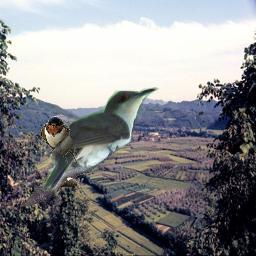Crow: (20, 159, 98, 207)
Cuckoo: (42, 87, 159, 192)
Swallow: (41, 116, 78, 164)
